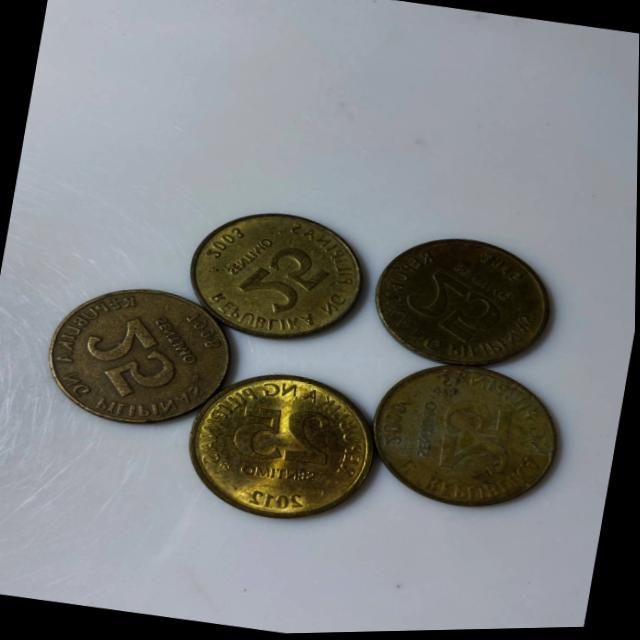25Cent_Old_Front: (424, 393, 525, 492), (230, 237, 336, 328), (227, 395, 343, 477), (88, 311, 182, 402), (408, 268, 508, 347)
